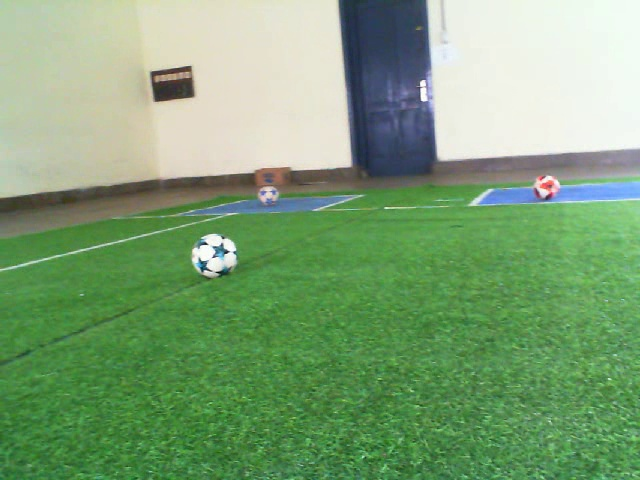ball: (189, 231, 240, 280), (532, 173, 562, 202), (255, 184, 281, 208)
